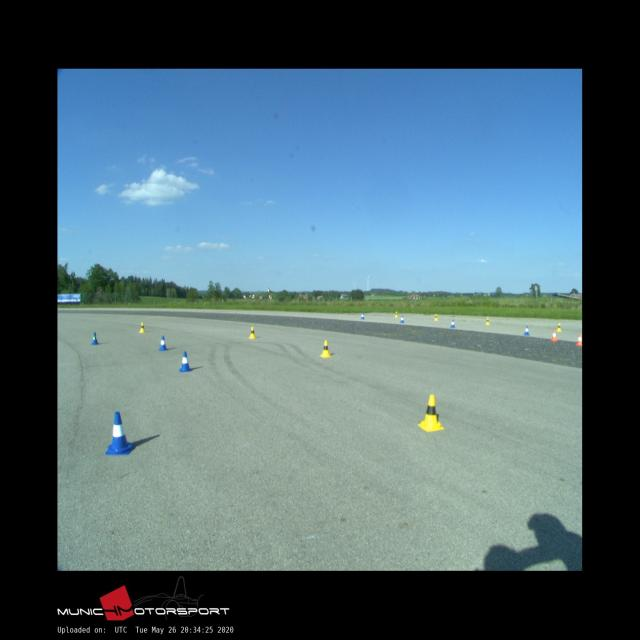blue_cone: (106, 412, 133, 455), (179, 351, 192, 371), (159, 336, 168, 350), (91, 332, 99, 345), (524, 326, 530, 335), (450, 319, 455, 328), (360, 313, 364, 319), (400, 316, 404, 322)
orange_cone: (550, 330, 558, 340), (576, 334, 582, 346)
yellow_cone: (418, 394, 444, 431), (320, 341, 331, 357), (138, 322, 146, 332), (249, 327, 256, 338), (556, 323, 562, 331), (486, 317, 490, 325), (434, 314, 438, 320), (395, 311, 398, 317)
